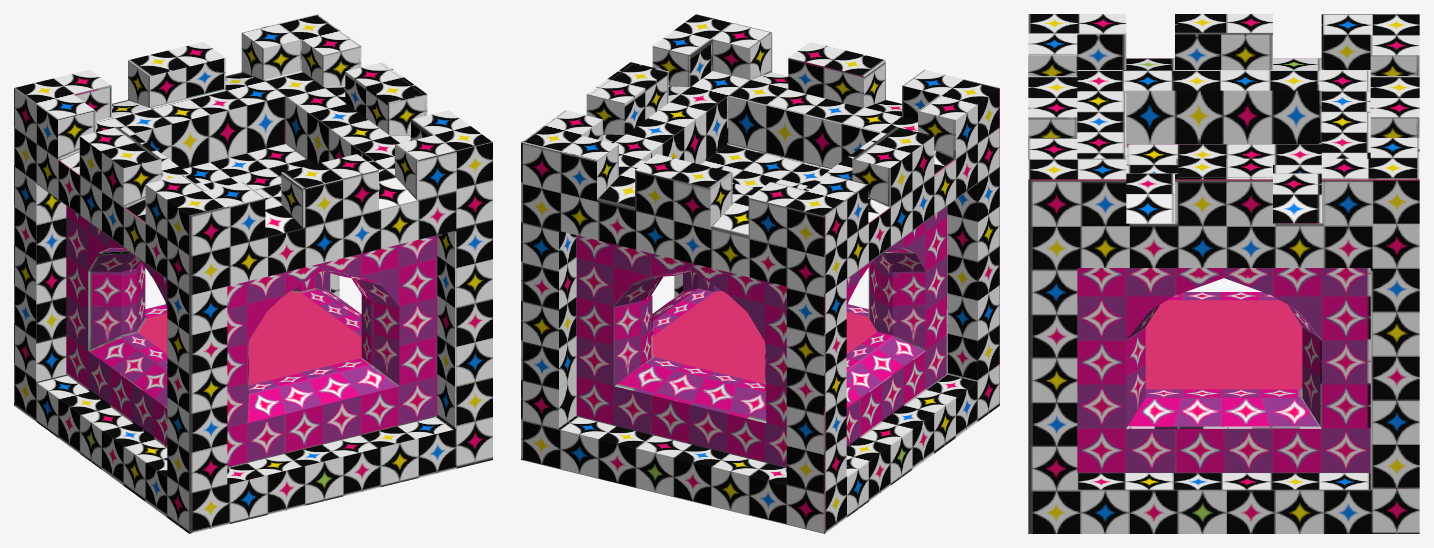
The model's file is rook.glb.
3 views of the same model, side by side, from view 1: azimuth 30°, elevation 25°; view 2: azimuth 150°, elevation 25°; view 3: azimuth 270°, elevation 25° (orthographic). The views are drawn at different scales.
Visible parts, largest first — view 1: Cube; view 2: Cube; view 3: Cube.
Boxes of the visible parts, x1=… form: Cube: x1=14, y1=14, x2=492, y2=533; Cube: x1=521, y1=14, x2=999, y2=533; Cube: x1=1028, y1=14, x2=1419, y2=533.
Bounding box in the file's own units: 2 × 2 × 2.
Materials: 1 (1 with a texture image).
